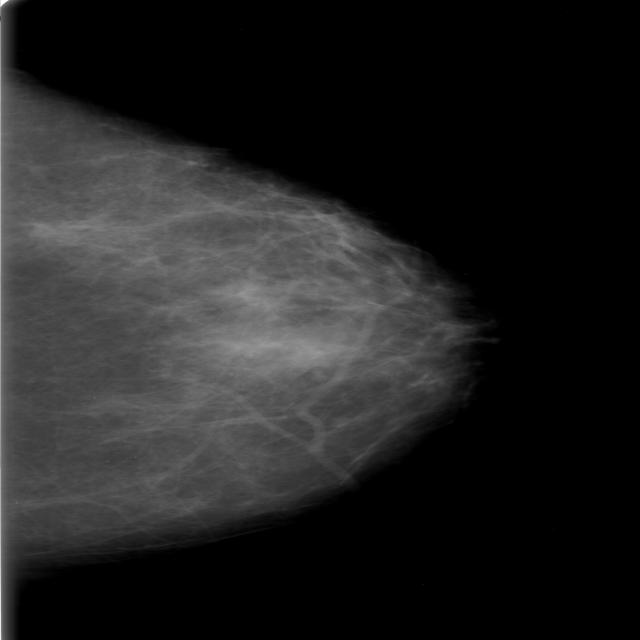normal: (0, 93, 499, 552)
